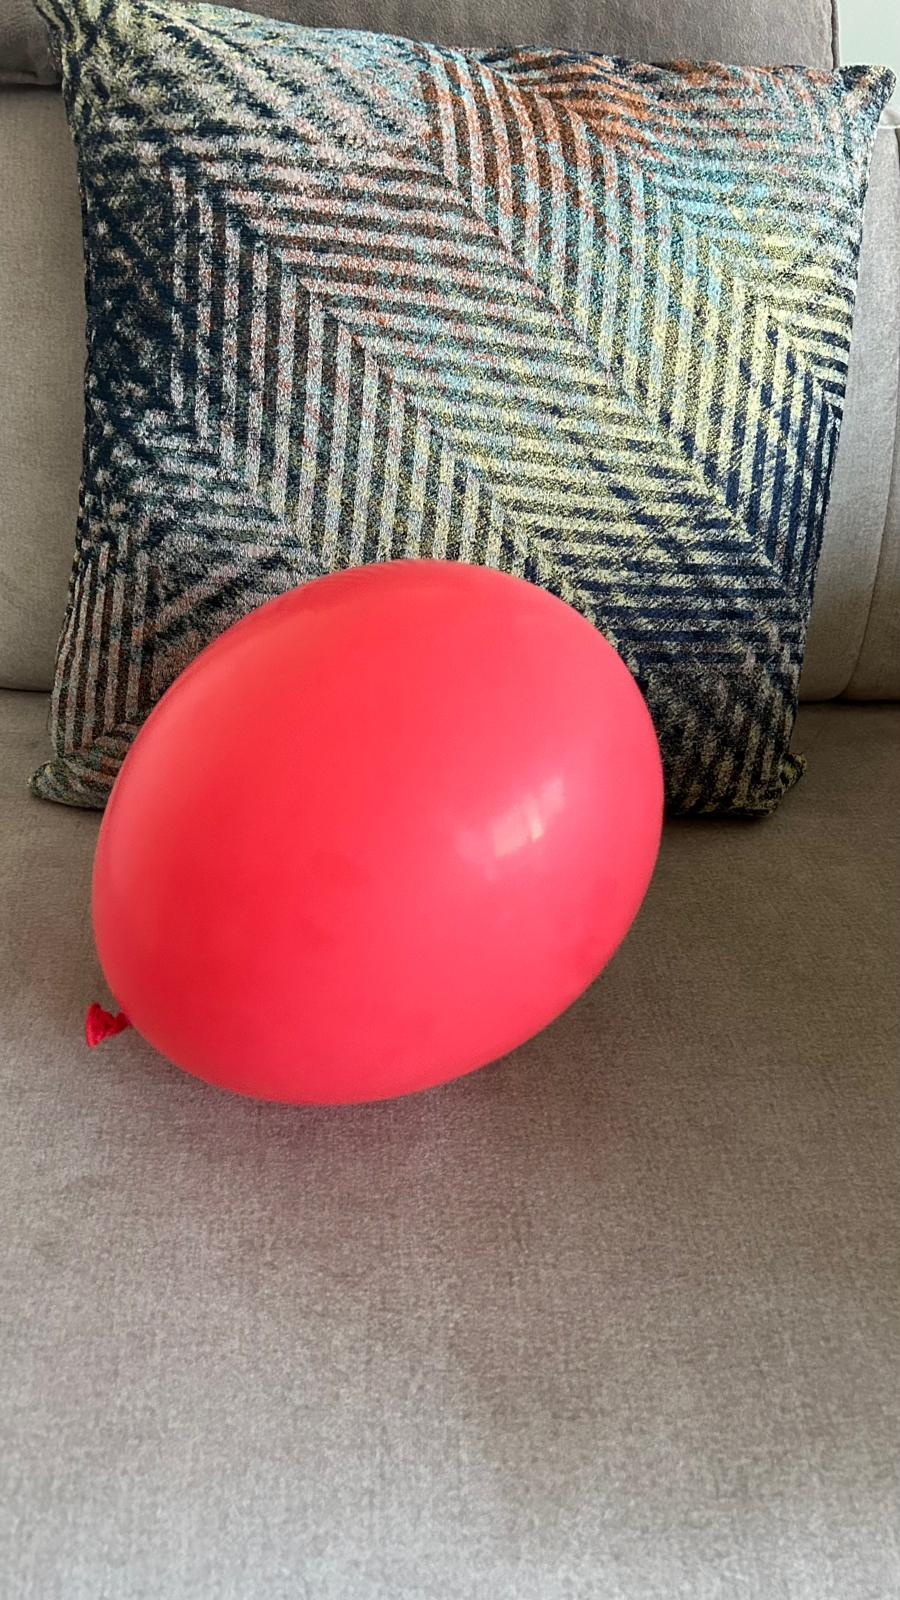red: (80, 551, 668, 1102)
